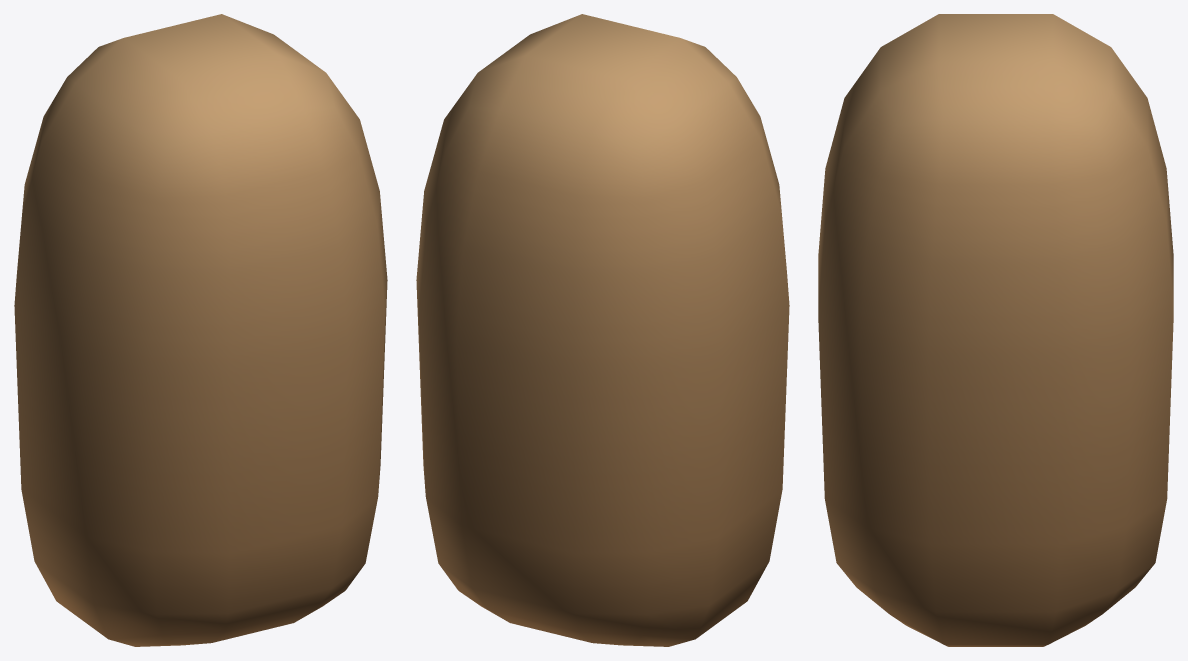
The model's file is Rock_6_D_Color5.fbx.
3 views of the same model, side by side, from view 1: azimuth 30°, elevation 25°; view 2: azimuth 150°, elevation 25°; view 3: azimuth 270°, elevation 25° (orthographic).
Visible parts, largest first — view 1: Rock_6_D_Color5; view 2: Rock_6_D_Color5; view 3: Rock_6_D_Color5.
Boxes of the visible parts, x1=… form: Rock_6_D_Color5: x1=14, y1=14, x2=387, y2=646; Rock_6_D_Color5: x1=416, y1=14, x2=789, y2=646; Rock_6_D_Color5: x1=818, y1=14, x2=1173, y2=646.
Bounding box in the file's own units: 0.8757 × 1.56 × 0.8757.
